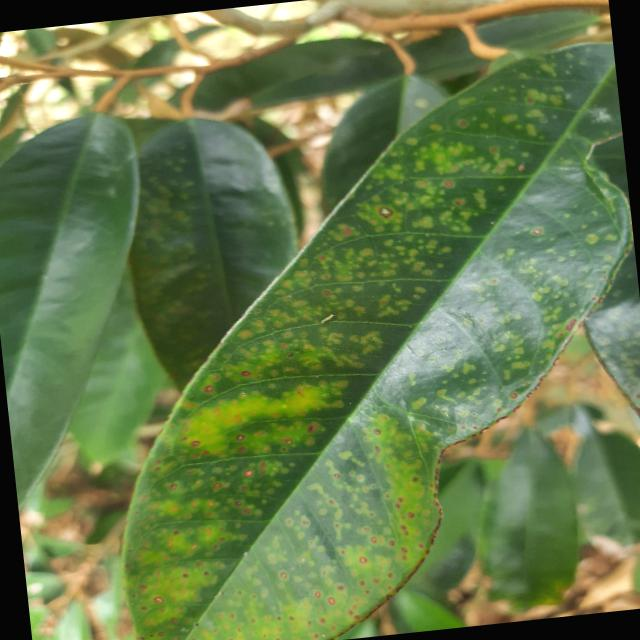Leaf Spot: (65, 33, 639, 639)
